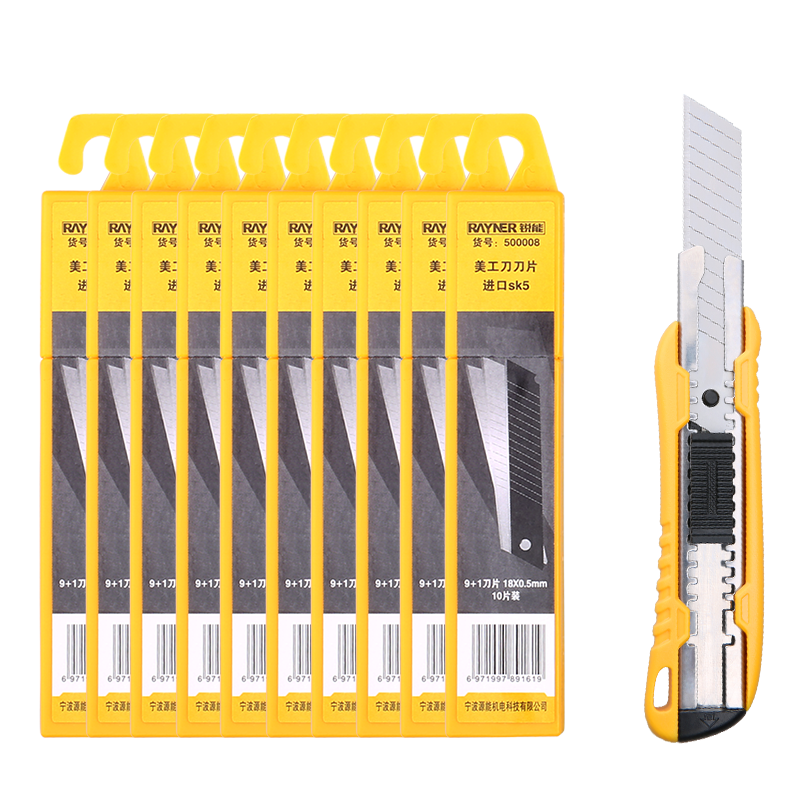cutter: (653, 91, 774, 748), (462, 113, 565, 739), (404, 115, 476, 738), (218, 115, 276, 738), (311, 111, 366, 737), (84, 112, 134, 738), (39, 113, 87, 738), (129, 114, 176, 742), (174, 111, 219, 741), (365, 106, 405, 737), (272, 107, 311, 736)
